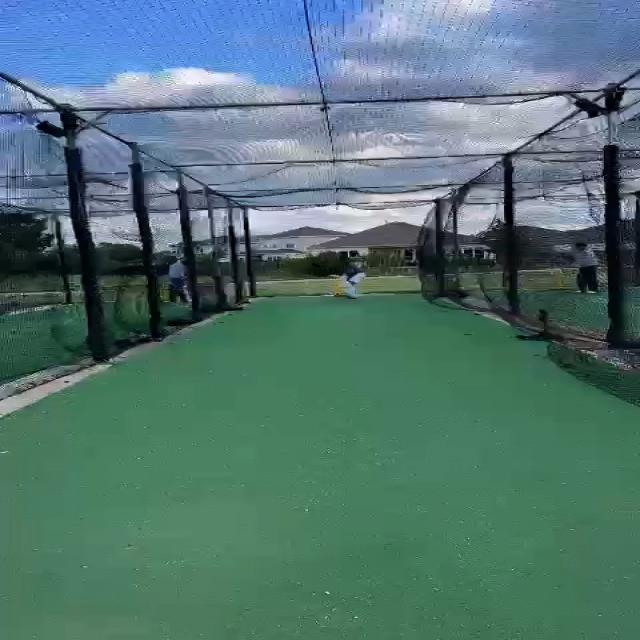batsman: (328, 256, 367, 300)
